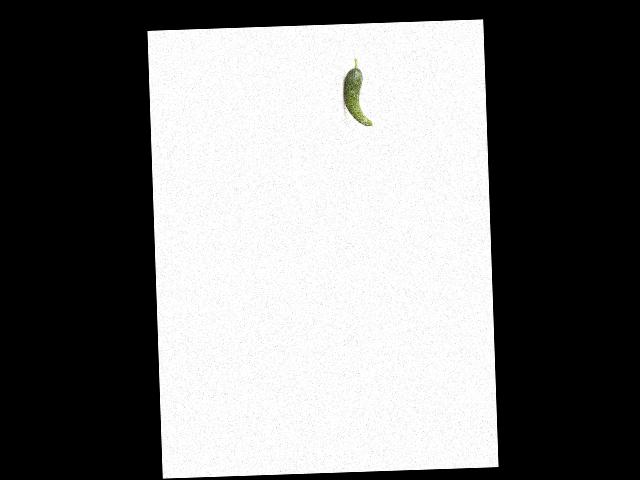cucumber: (342, 57, 372, 126)
